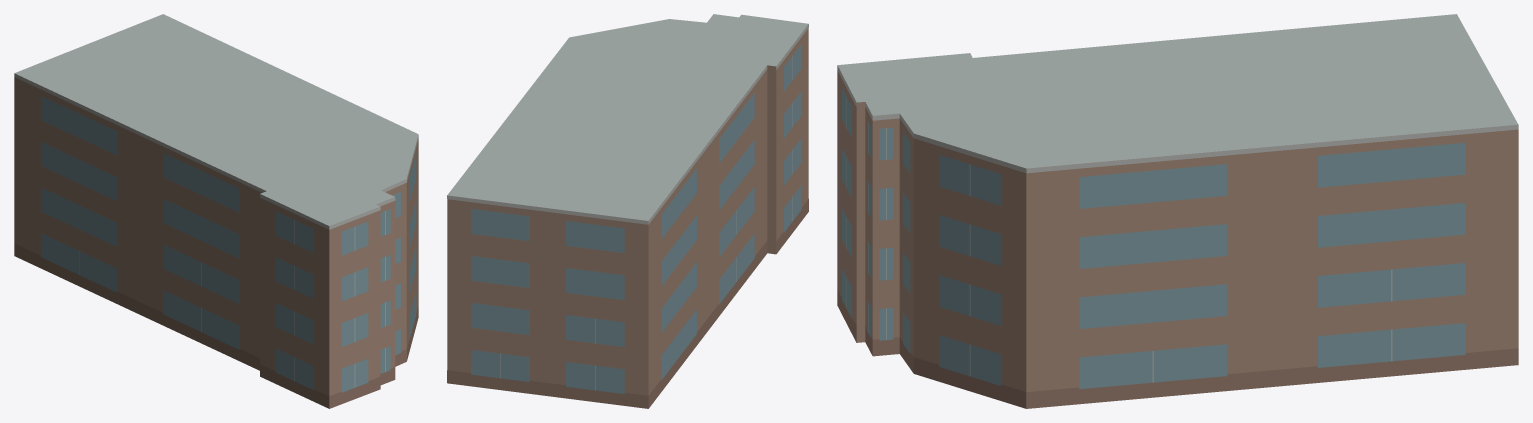
Rendered from survey-upis-32833011.glb.
The picture shows the model from 3 angles, left to right: view 1: azimuth 30°, elevation 25°; view 2: azimuth 150°, elevation 25°; view 3: azimuth 270°, elevation 25°; orthographic projection. The views are drawn at different scales.
Parts seen in each view (by area): view 1: survey-upis-32833011.tmp; view 2: survey-upis-32833011.tmp; view 3: survey-upis-32833011.tmp.
Boxes of the visible parts, x1,y1,x2,y2 form: survey-upis-32833011.tmp: [14, 14, 418, 408]; survey-upis-32833011.tmp: [447, 14, 808, 408]; survey-upis-32833011.tmp: [837, 14, 1518, 408].
Size of the model in its own units: 16.83 by 12.2 by 31.34.
